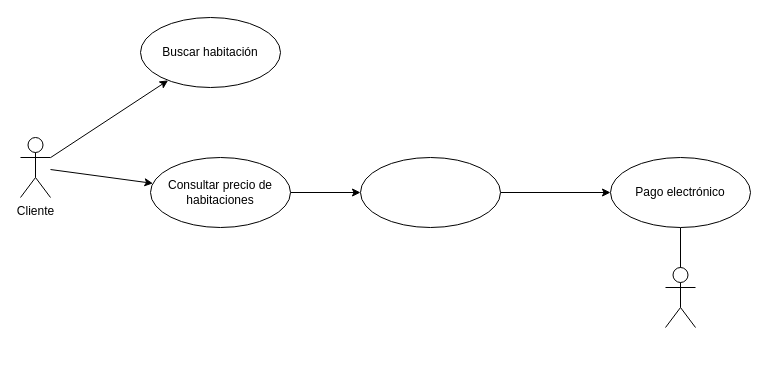
This 768x366 diagram has some shape labels left out. Each missing label, with the centre of its shape:
"Metodo de pago" goes at [680,297].
"Solicitar reserva" goes at [430,192].
